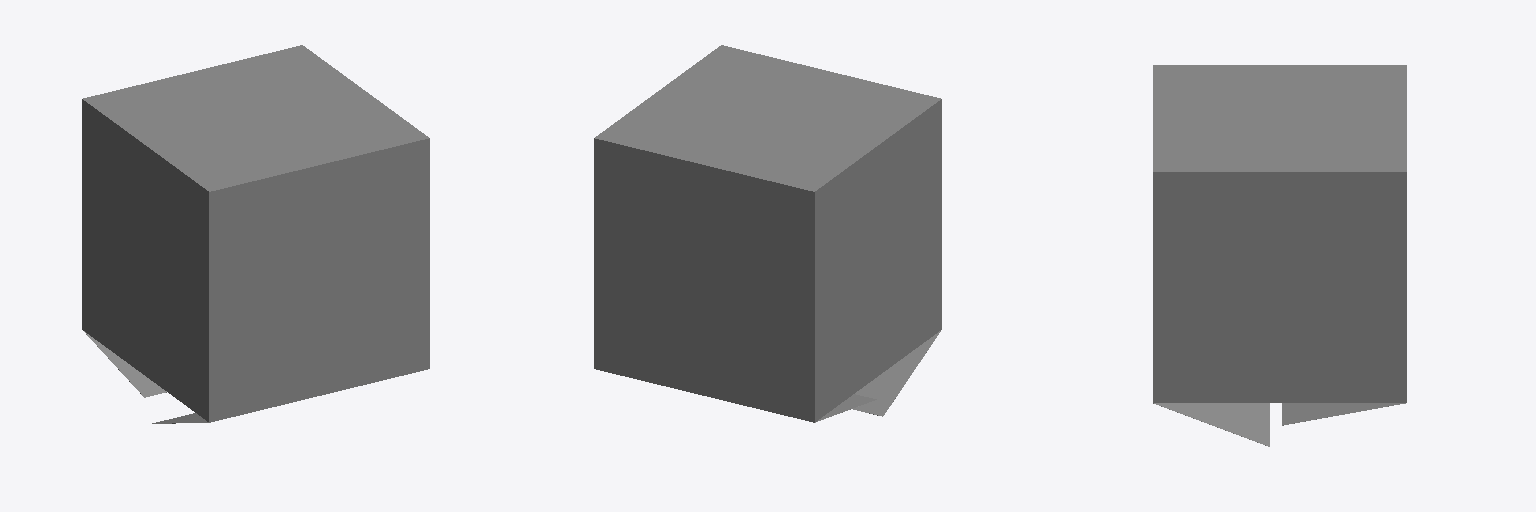
Rendered from cardboardBox_rot.obj.
3 views of the same model, side by side, from view 1: azimuth 30°, elevation 25°; view 2: azimuth 150°, elevation 25°; view 3: azimuth 270°, elevation 25° (orthographic).
Visible parts, largest first — view 1: 1; view 2: 1; view 3: 1.
Part boxes in pixels (left/top/right/bottom): 1: left=82, top=45, right=429, bottom=423; 1: left=594, top=45, right=941, bottom=422; 1: left=1153, top=65, right=1406, bottom=446.
Size of the model in its own units: 0.9833 by 1.17 by 0.9833.